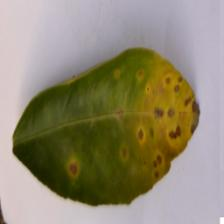canker: (127, 66, 197, 170)
